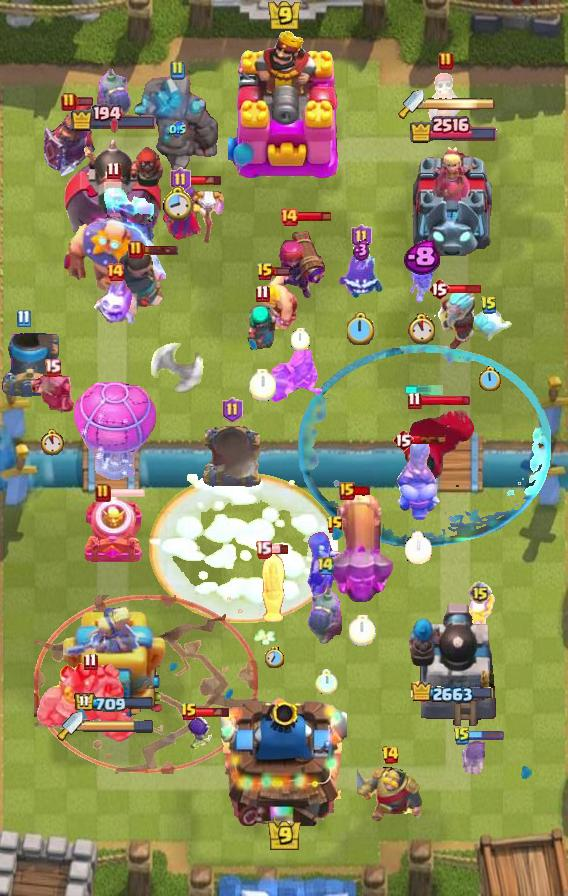axe: (149, 332, 205, 394)
bar: (420, 394, 471, 407), (297, 210, 332, 223), (109, 487, 146, 499), (142, 244, 179, 256), (196, 706, 231, 718), (448, 283, 483, 295), (188, 174, 223, 186), (469, 730, 505, 741), (412, 434, 447, 445), (353, 485, 372, 497), (270, 544, 289, 555), (272, 266, 291, 277), (75, 96, 94, 107)
bar-level: (468, 581, 492, 605), (222, 397, 243, 423), (351, 224, 372, 250), (170, 167, 191, 193), (392, 428, 414, 452), (428, 277, 450, 301), (316, 555, 336, 576), (105, 262, 125, 282), (279, 207, 299, 227), (381, 745, 400, 765), (453, 726, 471, 746), (180, 702, 198, 722), (326, 515, 344, 535), (480, 295, 498, 315), (256, 262, 274, 282), (255, 540, 272, 559), (44, 358, 61, 377), (95, 483, 111, 503), (128, 240, 144, 260), (61, 92, 77, 112), (169, 60, 185, 80), (438, 51, 454, 71), (339, 482, 355, 500), (83, 652, 98, 671), (407, 391, 422, 410), (16, 309, 31, 328), (255, 284, 270, 303), (106, 161, 121, 180)
barbarian: (255, 274, 299, 329)
bomber-evolution: (307, 579, 345, 647), (94, 60, 132, 128)
cannoneer-tower: (61, 132, 168, 256), (408, 599, 498, 731)
clock: (161, 184, 193, 221), (406, 313, 437, 345), (404, 531, 432, 564), (347, 312, 375, 345), (249, 369, 276, 401), (349, 615, 376, 646), (39, 429, 65, 456), (478, 366, 501, 393), (315, 669, 338, 695), (291, 328, 310, 351), (265, 647, 284, 668)
dagger-duchess-tower: (60, 607, 168, 731), (409, 142, 497, 256)
dagger-duchess-tower-bar: (83, 719, 155, 733), (424, 97, 496, 111)
electro-spirit: (335, 254, 387, 298)
elixir: (403, 239, 440, 276), (353, 239, 370, 261), (169, 121, 186, 138)
firecracker-evolution: (273, 214, 327, 302)
ice-spirit: (465, 306, 513, 344)
ice-spirit-evolution: (94, 277, 136, 327)
ice-wizard: (429, 285, 481, 349)
king-tower: (221, 690, 347, 826), (228, 29, 340, 181)
knight: (357, 766, 423, 823)
mini-pekka: (29, 371, 75, 417)
mortar: (200, 424, 264, 490), (0, 333, 60, 397)
mortar-evolution: (81, 496, 145, 566)
night-witch: (304, 527, 366, 599)
ram-rider: (396, 438, 440, 520)
rascal-girl: (244, 305, 280, 353)
royal-hog: (258, 551, 290, 625)
skeleton: (464, 594, 496, 630)
skeleton-evolution: (406, 261, 436, 303), (460, 741, 491, 779), (186, 716, 212, 752)
tower-bar: (408, 114, 498, 144), (70, 104, 158, 132), (411, 681, 495, 706), (74, 692, 155, 714)
valkyrie-evolution: (266, 346, 324, 406)
wall-breaker: (424, 72, 468, 130)
witch: (160, 179, 224, 249)
